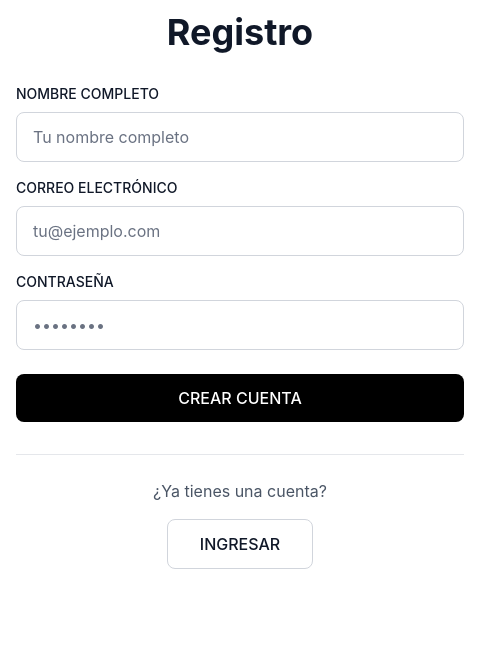
Scenario: RegisterForm › clears field error when user starts typing
Click the button "CREAR CUENTA" at (240, 398), box [16, 374, 464, 422]
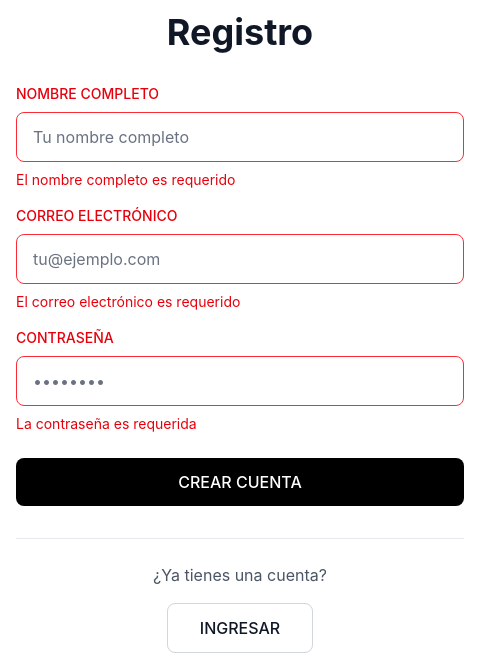
Expected: the text "El nombre completo es requerido" is shown, [16, 171, 235, 188]
Type "Juan" into the field labelled "NOMBRE COMPLETO" at (240, 137), box [16, 112, 464, 162]
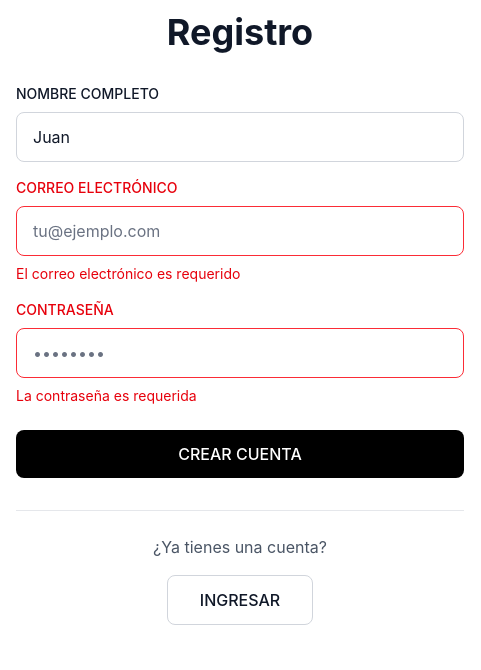
Expected: the text "El nombre completo es requerido" is gone
